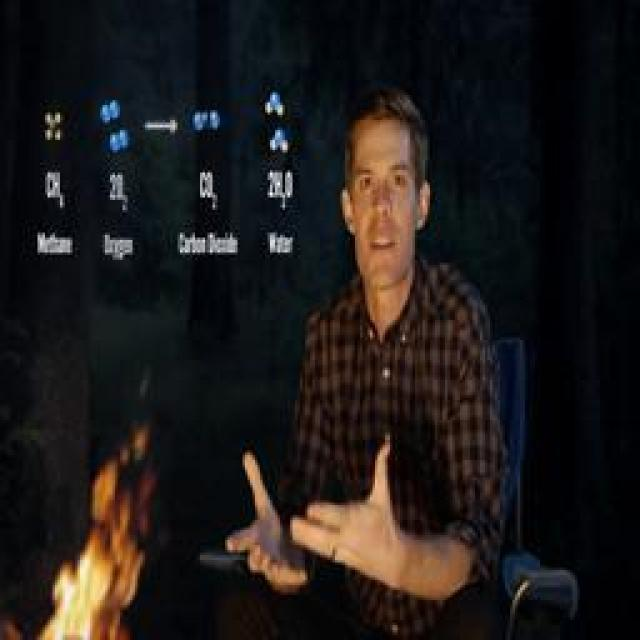Fire: (36, 427, 156, 640)
